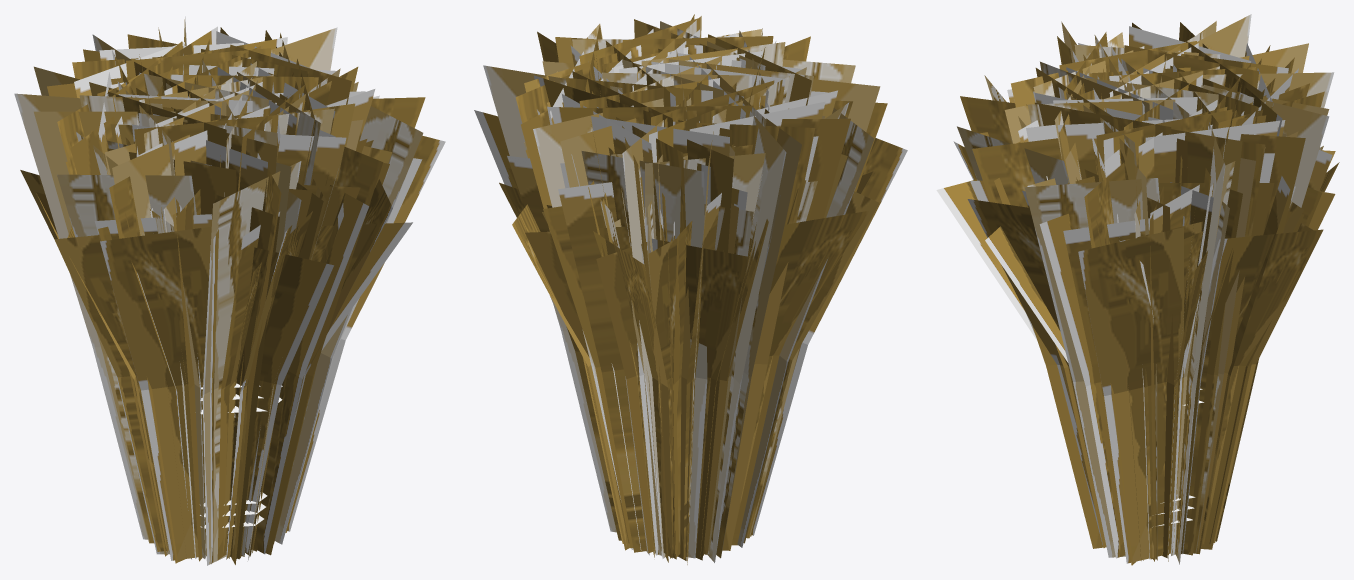
Rendered from MS_WheatStack1.fbx.
3 renders of one model, left to right at view 1: azimuth 30°, elevation 25°; view 2: azimuth 150°, elevation 25°; view 3: azimuth 270°, elevation 25°, orthographic. The views are drawn at different scales.
Parts seen in each view (by area): view 1: Plane.1572; view 2: Plane.1572; view 3: Plane.1572.
Boxes of the visible parts, left/top/right/bottom form: Plane.1572: left=14, top=16, right=445, bottom=565; Plane.1572: left=474, top=14, right=907, bottom=564; Plane.1572: left=936, top=14, right=1339, bottom=565.
Bounding box in the file's own units: 614 × 720 × 577.
